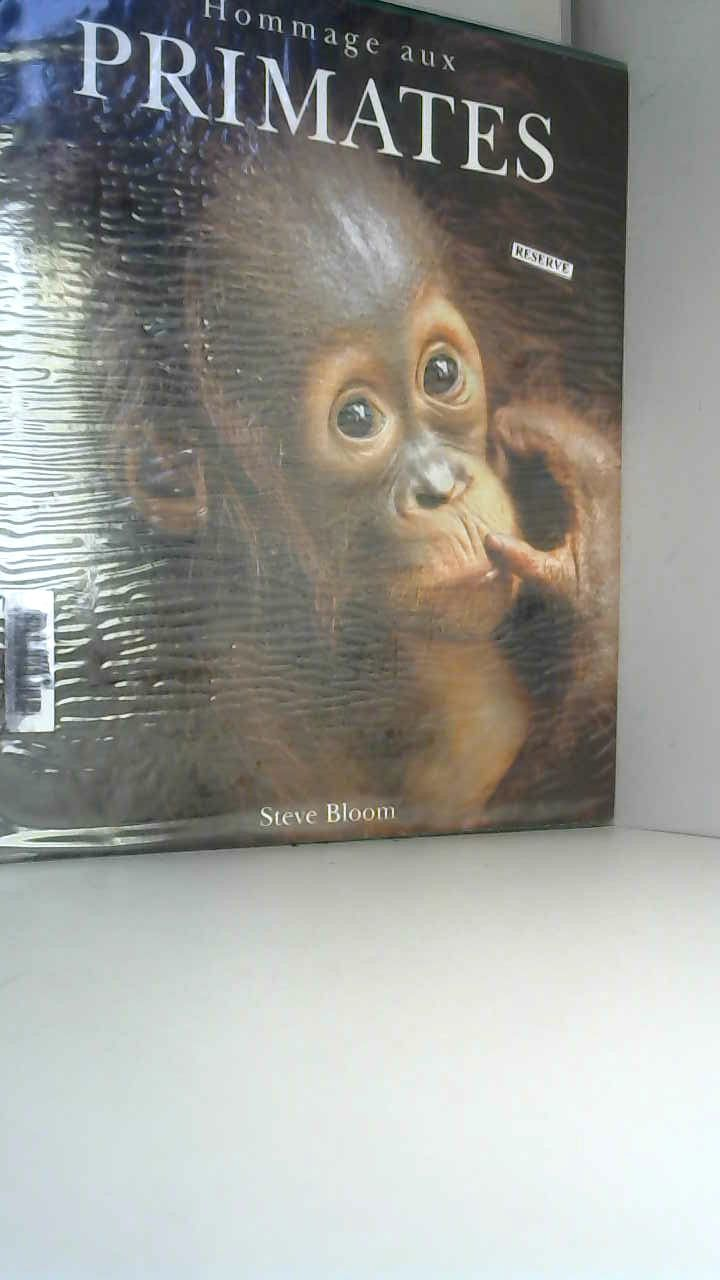book: (0, 0, 669, 895)
